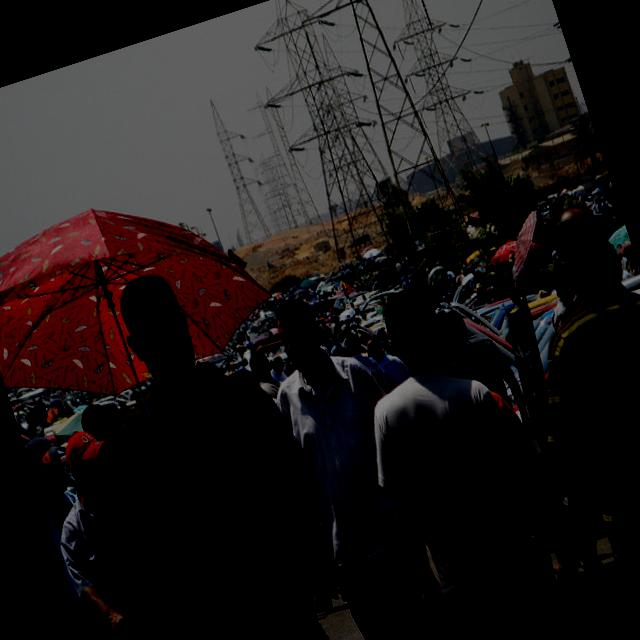Vehicle: (522, 272, 640, 375), (357, 288, 404, 321), (472, 296, 518, 324), (445, 270, 481, 304), (484, 302, 521, 333), (90, 388, 122, 419), (252, 338, 288, 365), (203, 353, 230, 372), (114, 389, 136, 405), (337, 308, 357, 325)
